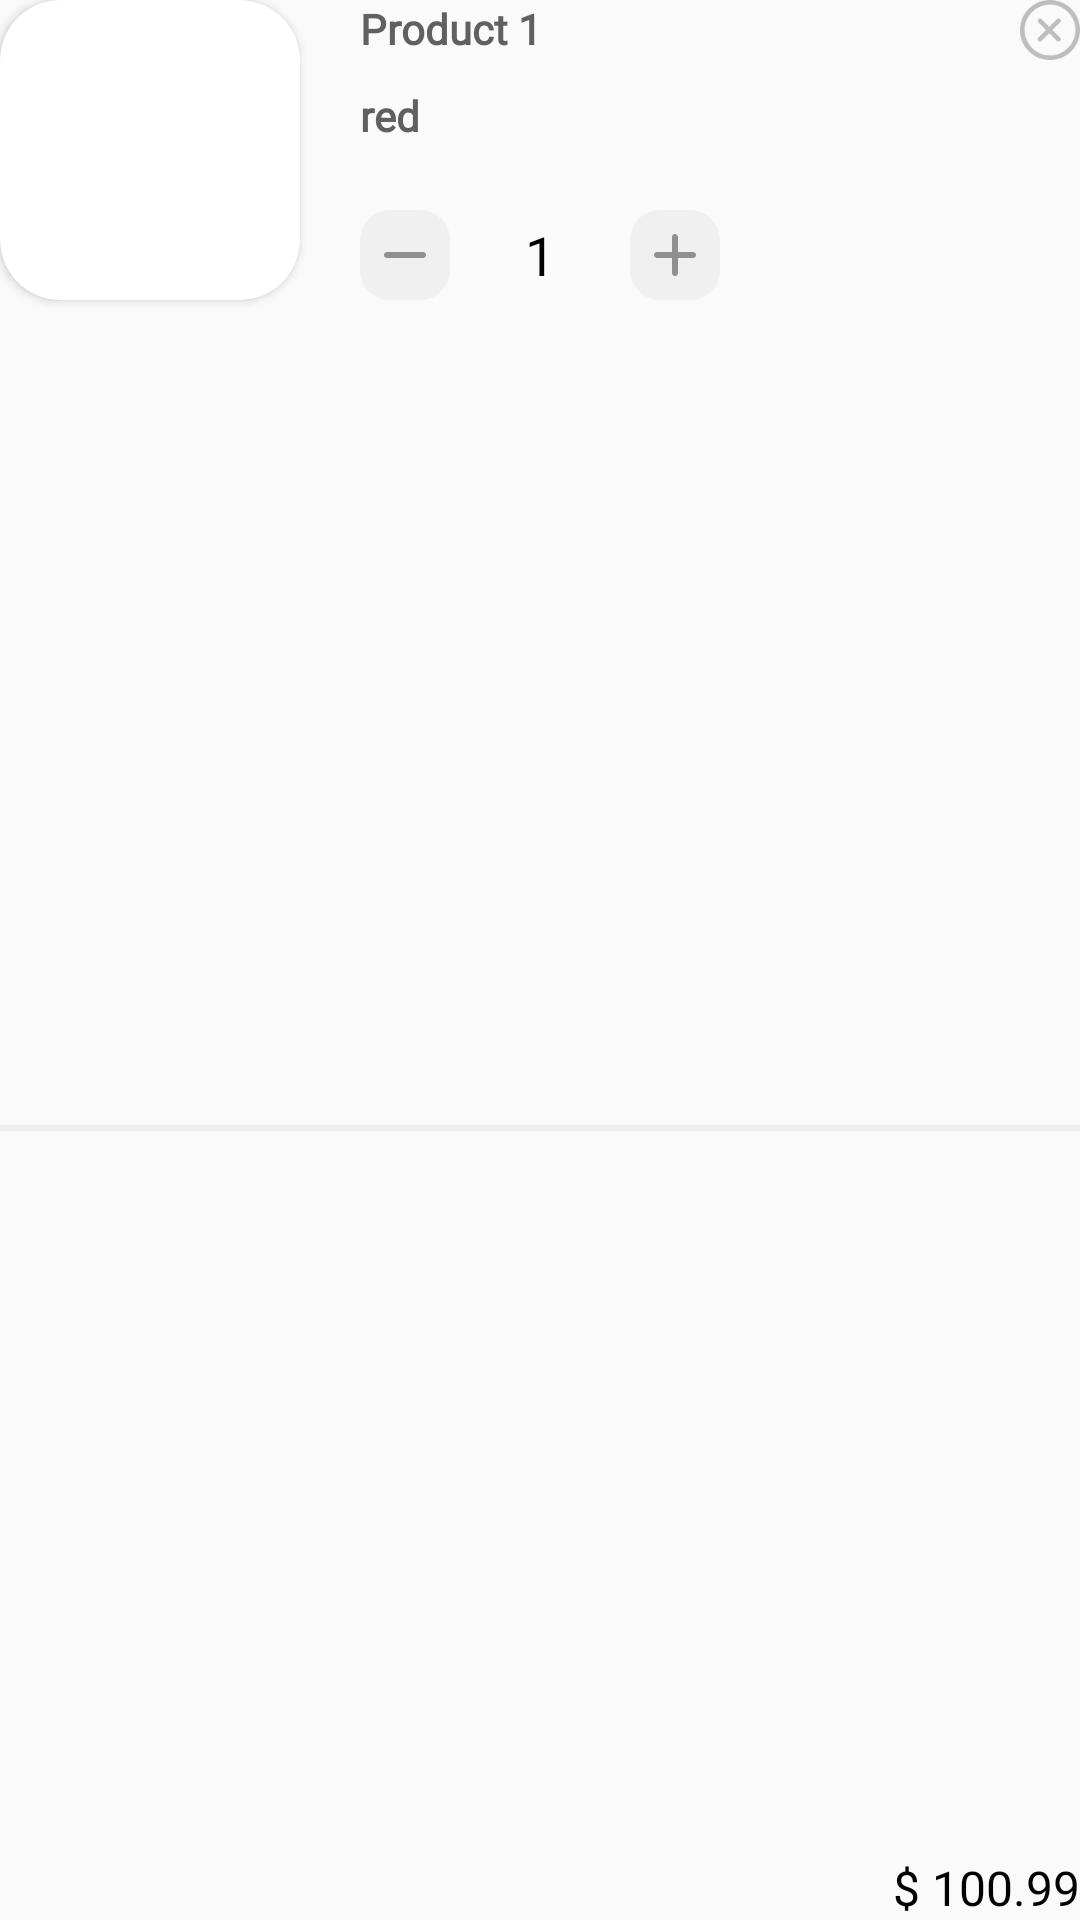

Named icons in this screenshot (1080px x 1920px) and their centers, (x,y):
close: (1050,30)
Increase Quantity: (675,255)
